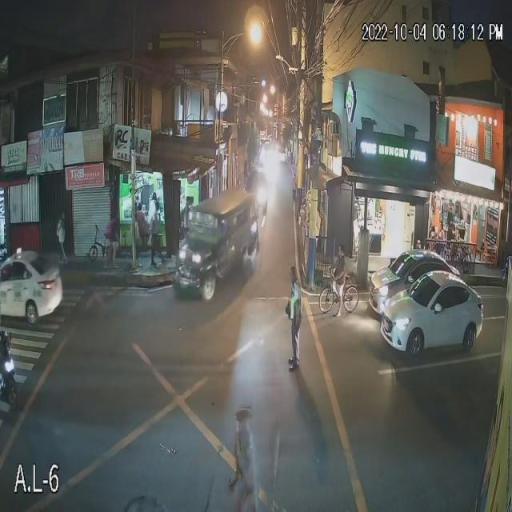motorcycle: (0, 328, 18, 413)
